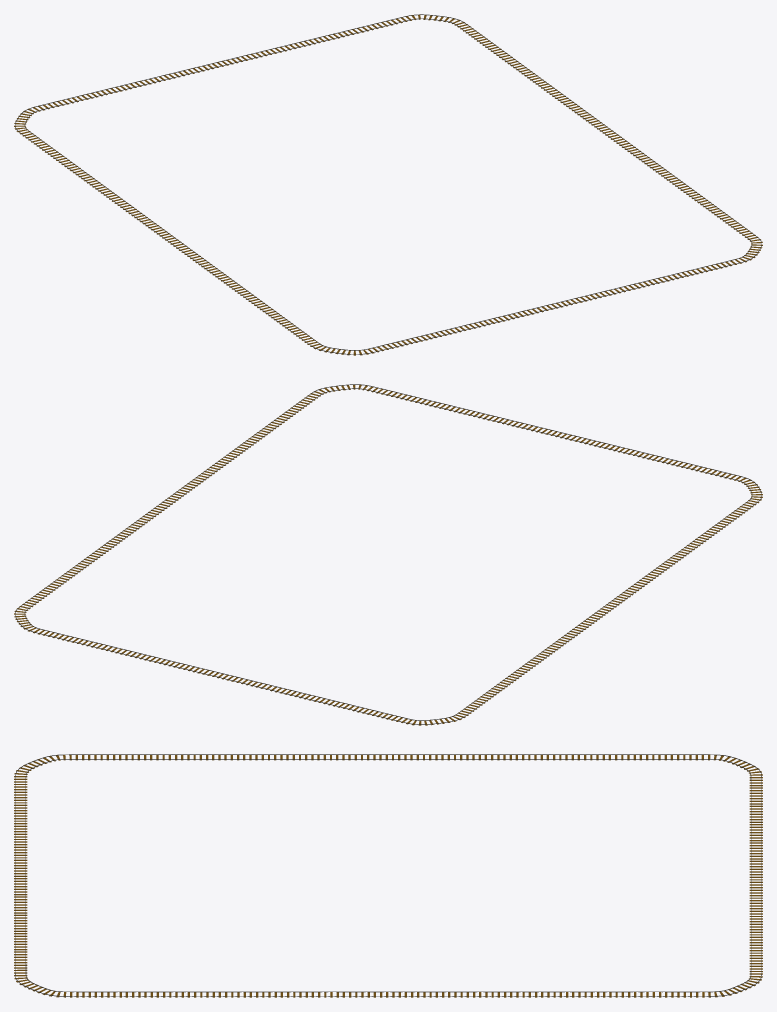
Rendered from Camino3.fbx.
3 views of the same model, one above another, from view 1: azimuth 30°, elevation 25°; view 2: azimuth 150°, elevation 25°; view 3: azimuth 270°, elevation 25° (orthographic). The views are drawn at different scales.
Visible parts, largest first — view 1: Cube.006; view 2: Cube.006; view 3: Cube.006.
Boxes of the visible parts, x1,y1,x2,y2 form: Cube.006: [14, 14, 762, 355]; Cube.006: [14, 384, 762, 725]; Cube.006: [14, 754, 762, 997].
Size of the model in its own units: 91.17 by 119 by 0.1458.
